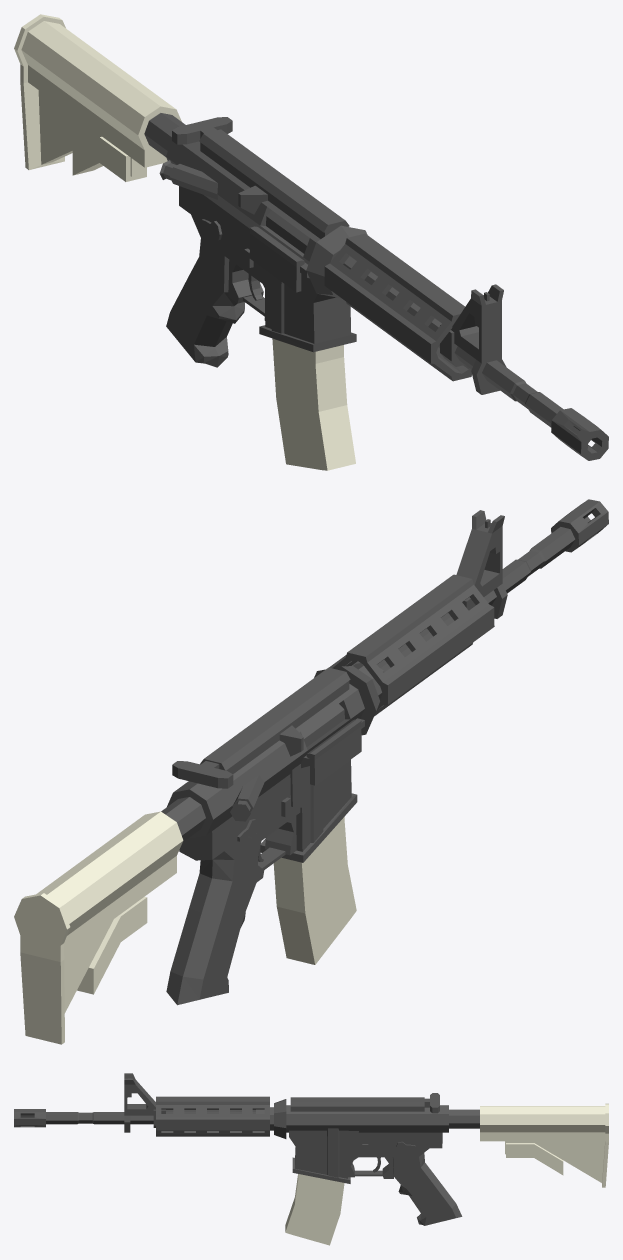
The model's file is SK_Web_RifleSwat_01.fbx.
The picture shows the model from 3 angles, top to bottom: view 1: azimuth 30°, elevation 25°; view 2: azimuth 150°, elevation 25°; view 3: azimuth 270°, elevation 25°; orthographic projection. The views are drawn at different scales.
Visible parts, largest first — view 1: SK_Web_RifleSwat_Body_01; view 2: SK_Web_RifleSwat_Body_01; view 3: SK_Web_RifleSwat_Body_01.
Part boxes in pixels (x1,y1,x2,y2): SK_Web_RifleSwat_Body_01: (14, 14, 608, 470); SK_Web_RifleSwat_Body_01: (14, 499, 608, 1044); SK_Web_RifleSwat_Body_01: (14, 1073, 608, 1245).
Bounding box in the file's own units: 212 × 776 × 2533.
